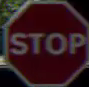Stop: (4, 1, 84, 79)
